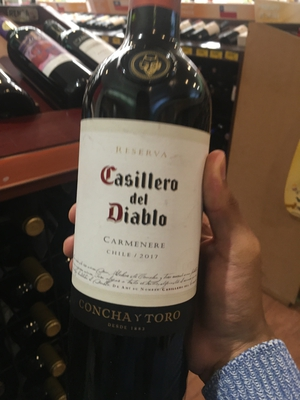casillero del diablo carmenere: (56, 29, 210, 400)
